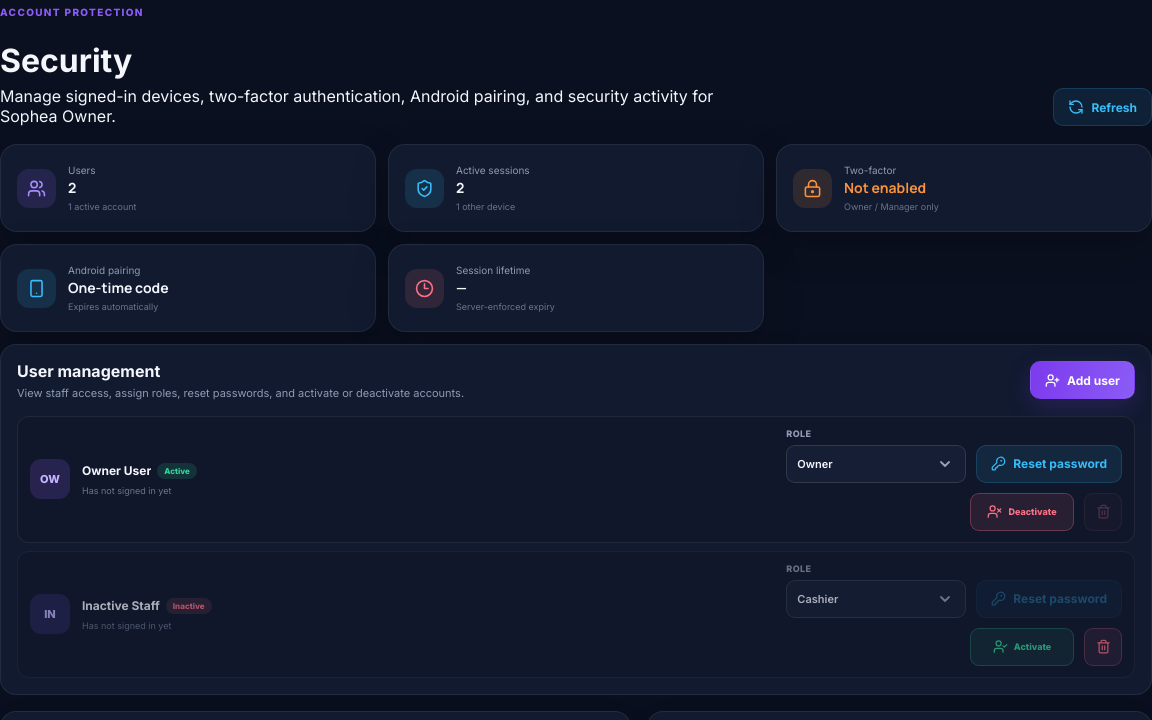
Scenario: SecurityWorkspacePage delete and revocation flows › successfully deletes an inactive staff account, reloads users, and displays success toast
This screenshot has width=1152, height=720.
Check: the text "Inactive Staff" is shown, box [82,598,160,613]
// Click delete user button
Click the button named "Delete Inactive Staff" at {"x": 1103, "y": 647}, box [1084,628,1122,666]
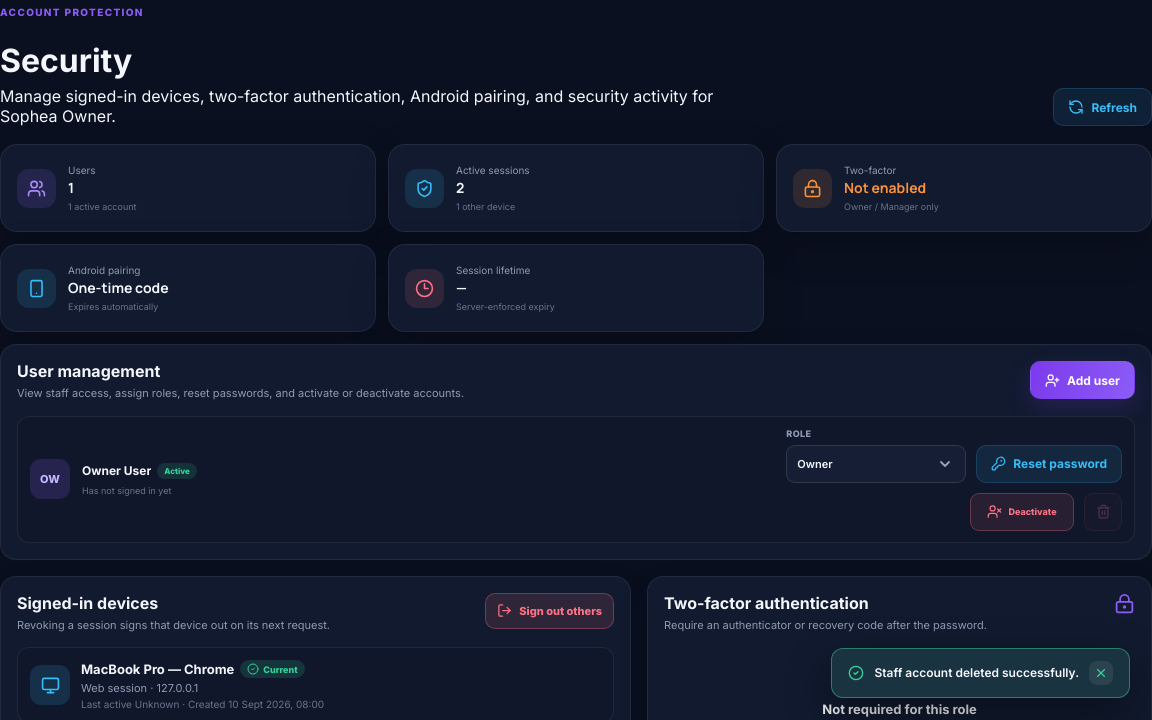
Check: the text "Staff account deleted successfully." is shown, box [874,665,1079,681]
Check: the text "Inactive Staff" is gone
